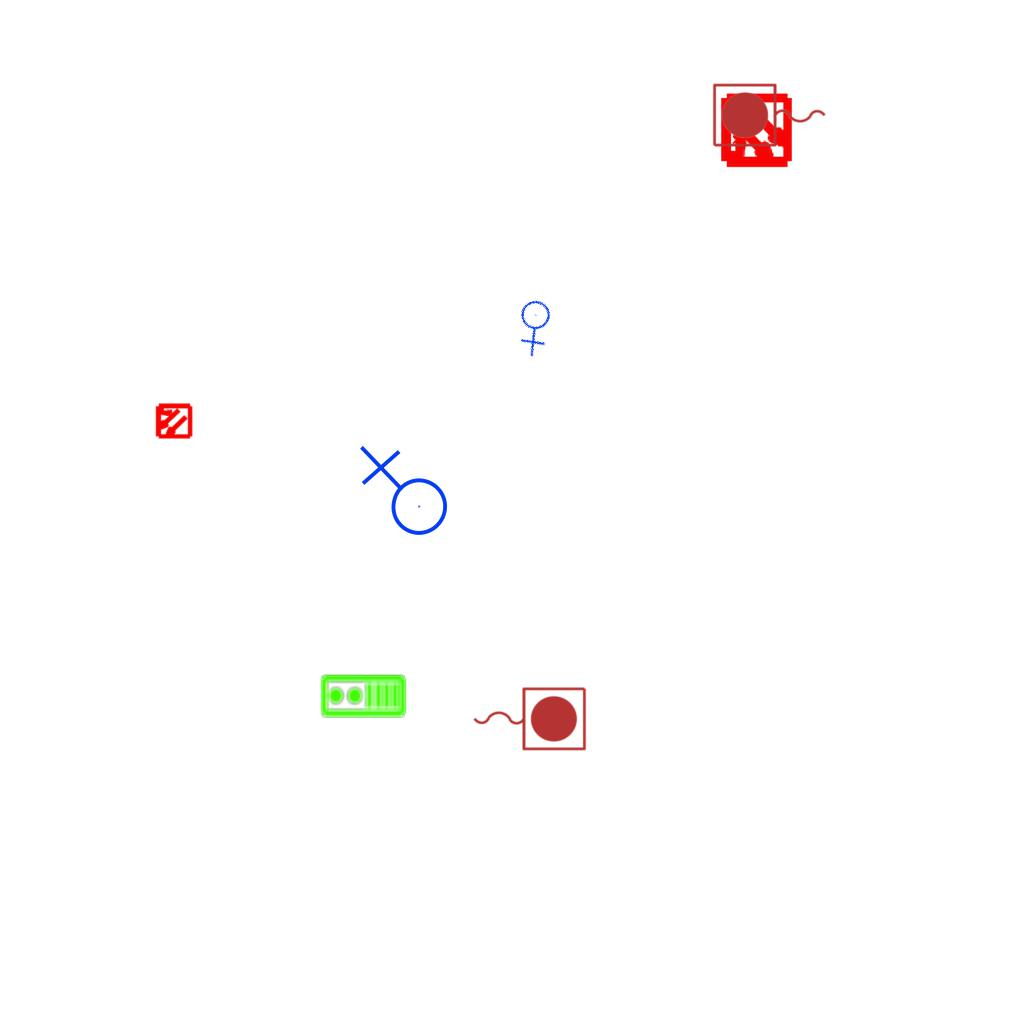Elektroanschluss_allgemein_230V_Geraeteanschlussdose_230V: (355, 445, 449, 544), (502, 291, 571, 360)
Gegensprechanlage_mit_Video: (319, 673, 407, 720)
OT_Multisensormelder_(Kombination_RMO_WMD): (700, 76, 813, 189), (145, 393, 201, 449)
Zugtaster: (468, 682, 590, 754), (709, 80, 831, 152)
